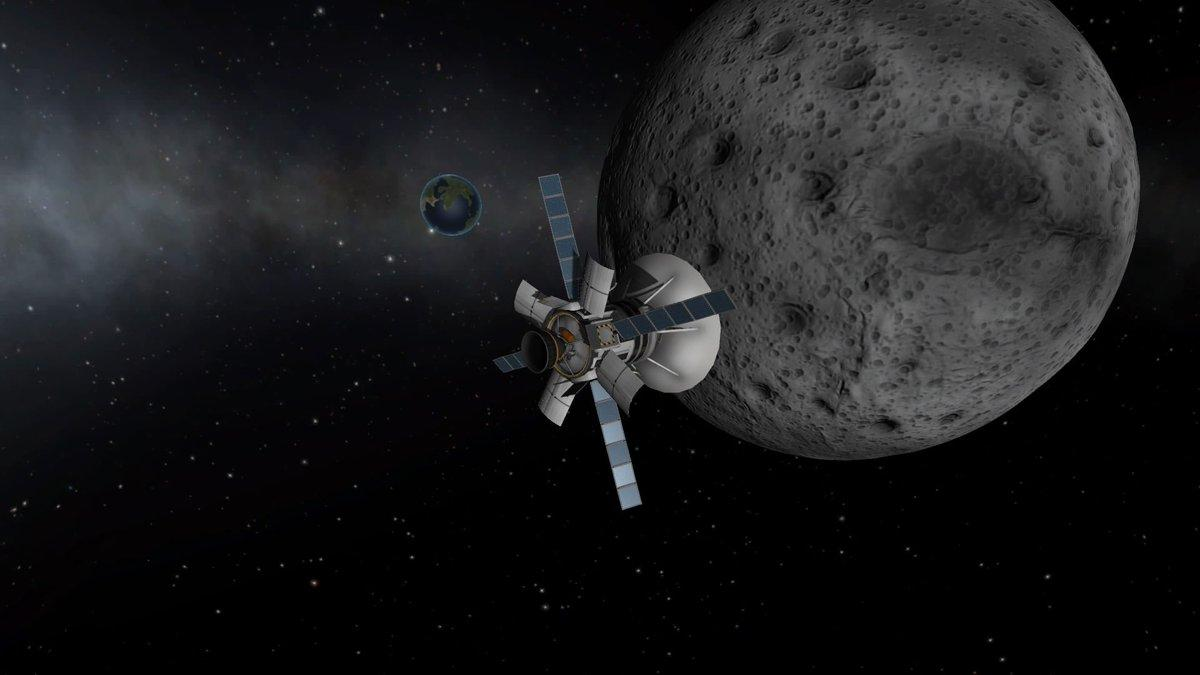antenna: (609, 250, 723, 395), (595, 347, 648, 420), (576, 252, 617, 320), (535, 368, 580, 428), (512, 277, 557, 330)
solar: (587, 377, 646, 513), (611, 285, 740, 341), (537, 171, 587, 303), (490, 348, 528, 375)
thruster: (518, 328, 568, 376)
